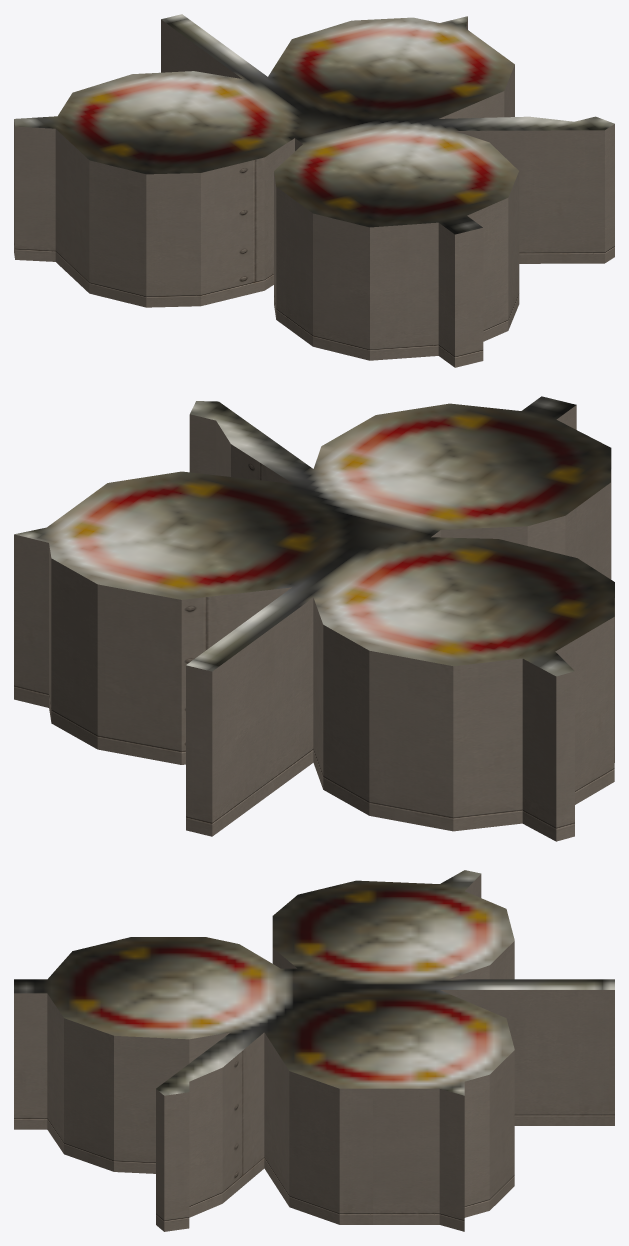
Rendered from fuel_tank_light_66.glb.
3 views of the same model, one above another, from view 1: azimuth 30°, elevation 25°; view 2: azimuth 150°, elevation 25°; view 3: azimuth 270°, elevation 25° (orthographic). The views are drawn at different scales.
Visible parts, largest first — view 1: buildings/saxarba/fuel_tanks/fuel_tank_light_66; view 2: buildings/saxarba/fuel_tanks/fuel_tank_light_66; view 3: buildings/saxarba/fuel_tanks/fuel_tank_light_66.
Boxes of the visible parts, bbox=[...] form: buildings/saxarba/fuel_tanks/fuel_tank_light_66: bbox=[14, 14, 614, 367]; buildings/saxarba/fuel_tanks/fuel_tank_light_66: bbox=[14, 396, 614, 841]; buildings/saxarba/fuel_tanks/fuel_tank_light_66: bbox=[14, 870, 614, 1231].
Size of the model in its own units: 64 by 18 by 72.
